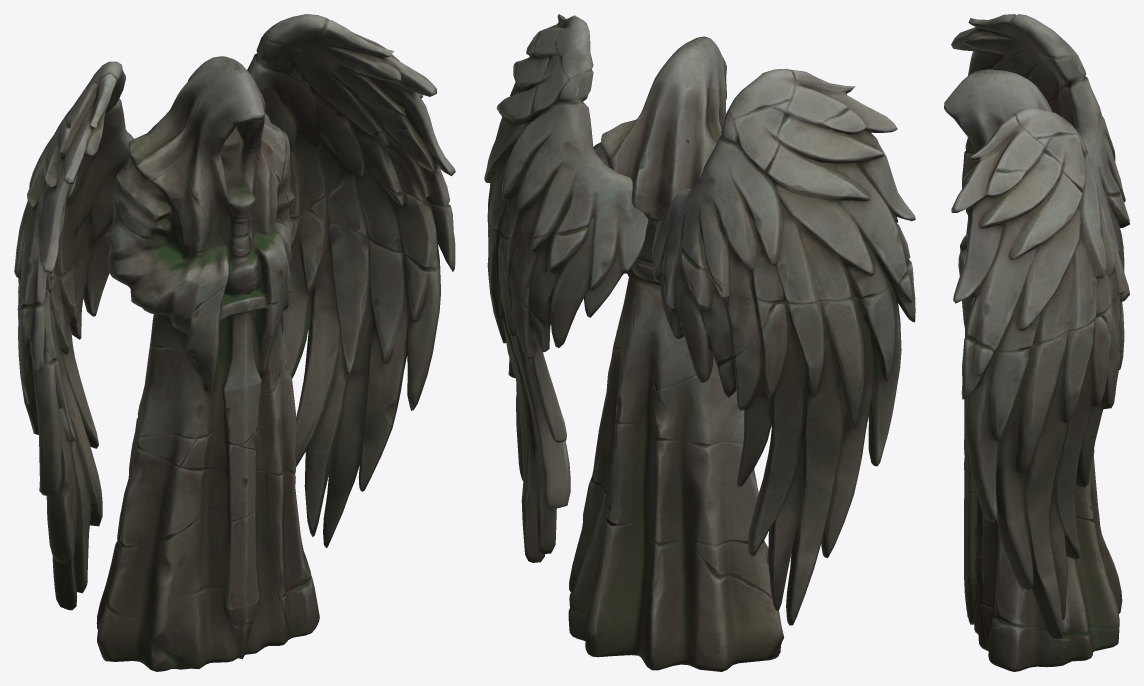
File: MSH_fwOF_Statue_01.fbx
3 views of the same model, side by side, from view 1: azimuth 30°, elevation 25°; view 2: azimuth 150°, elevation 25°; view 3: azimuth 270°, elevation 25° (orthographic). The views are drawn at different scales.
Parts seen in each view (by area): view 1: MSH_fwOF_Statue_01_LOD0; view 2: MSH_fwOF_Statue_01_LOD0; view 3: MSH_fwOF_Statue_01_LOD0.
Boxes of the visible parts, x1,y1,x2,y2 form: MSH_fwOF_Statue_01_LOD0: (14, 14, 455, 671); MSH_fwOF_Statue_01_LOD0: (484, 14, 915, 671); MSH_fwOF_Statue_01_LOD0: (944, 14, 1129, 671).
Size of what is drawn, in the model's own units: 2.54 by 3.39 by 1.01.
